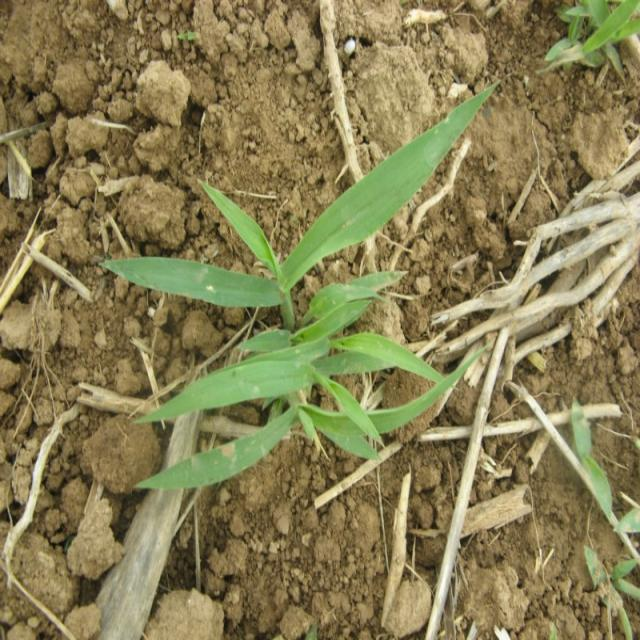bg: (99, 79, 493, 492)
